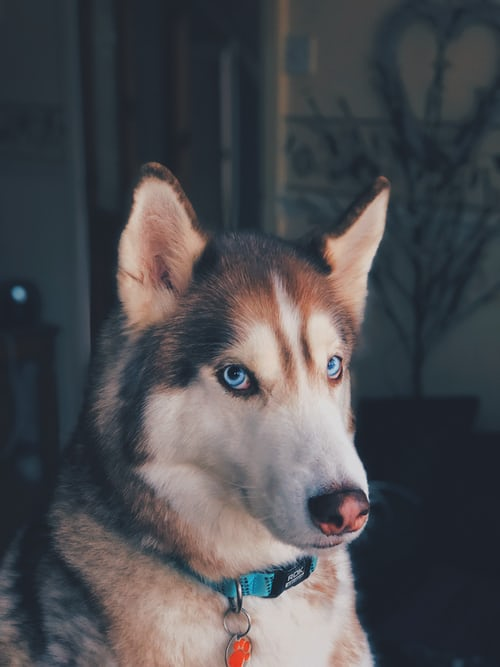husky: (65, 138, 435, 570)
